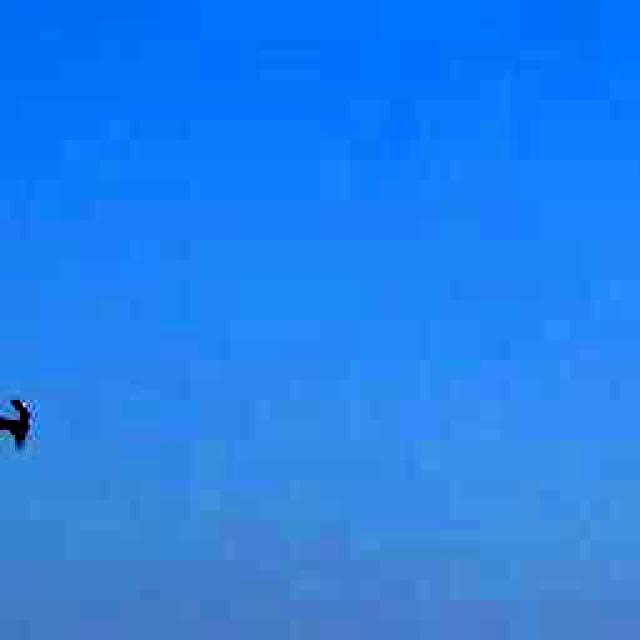bird: (0, 342, 64, 472)
